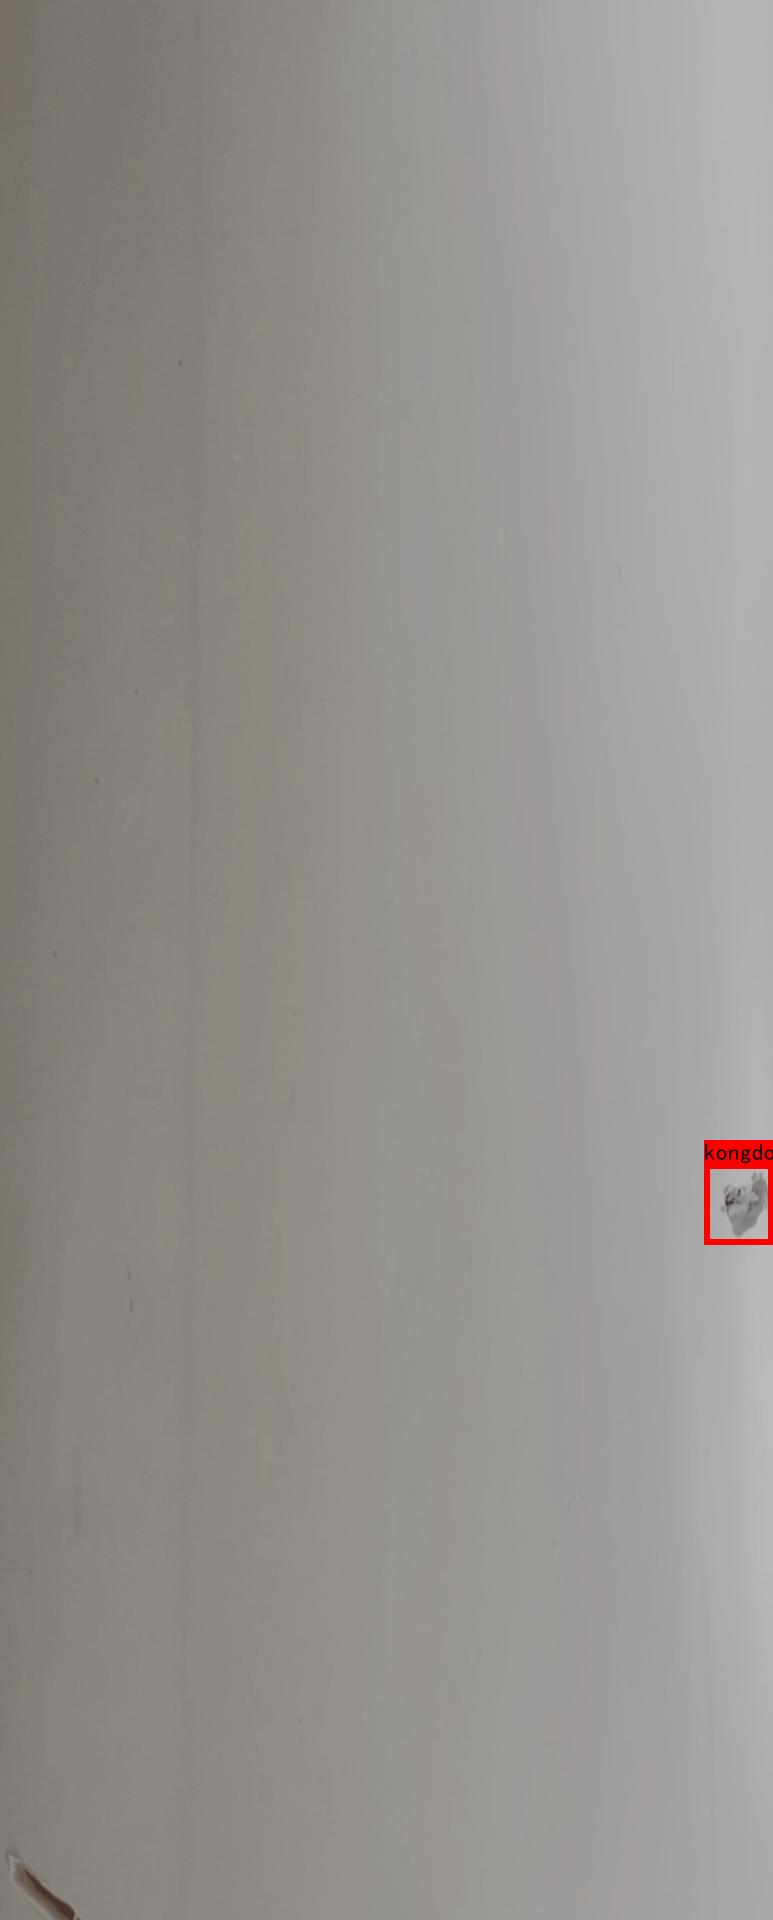fengxi: (20, 1847, 99, 1920)
kongdong: (706, 1174, 764, 1240)
